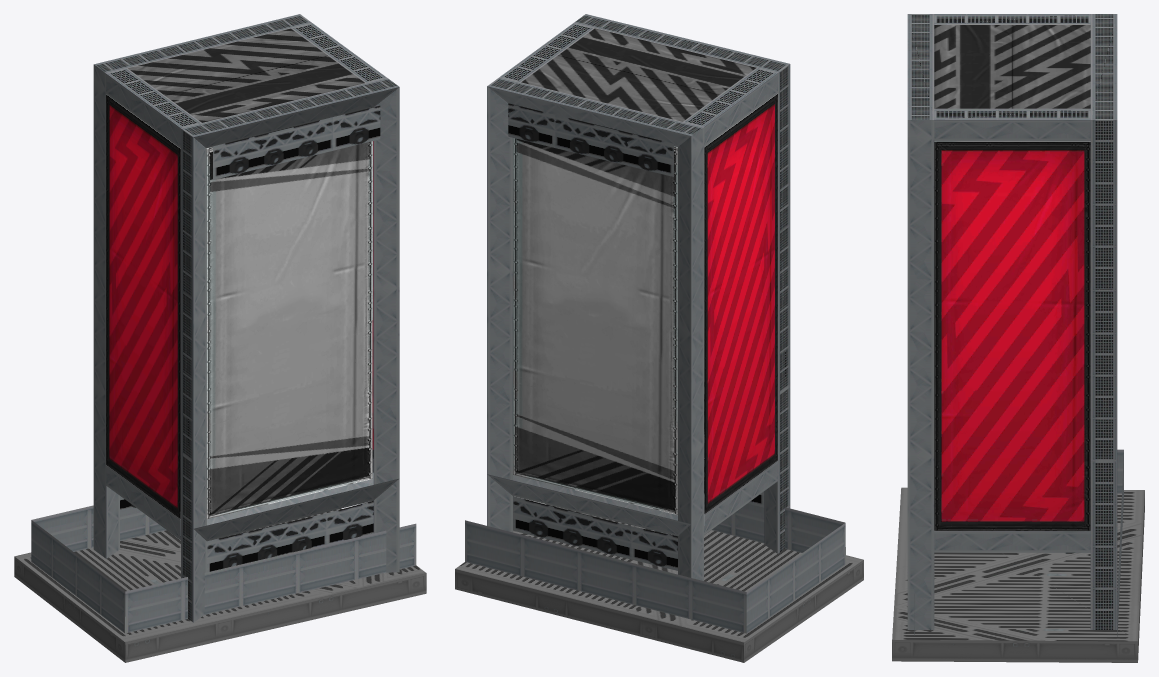
File: pro_tall_banners.fbx
3 renders of one model, left to right at view 1: azimuth 30°, elevation 25°; view 2: azimuth 150°, elevation 25°; view 3: azimuth 270°, elevation 25°, orthographic. The views are drawn at different scales.
Parts seen in each view (by area): view 1: pro_tall_banners; view 2: pro_tall_banners; view 3: pro_tall_banners.
Boxes of the visible parts, x1,y1,x2,y2 form: pro_tall_banners: (14,14,426,662); pro_tall_banners: (455,14,863,662); pro_tall_banners: (892,14,1144,662).
Bounding box in the file's own units: 1156 × 1863 × 803.
